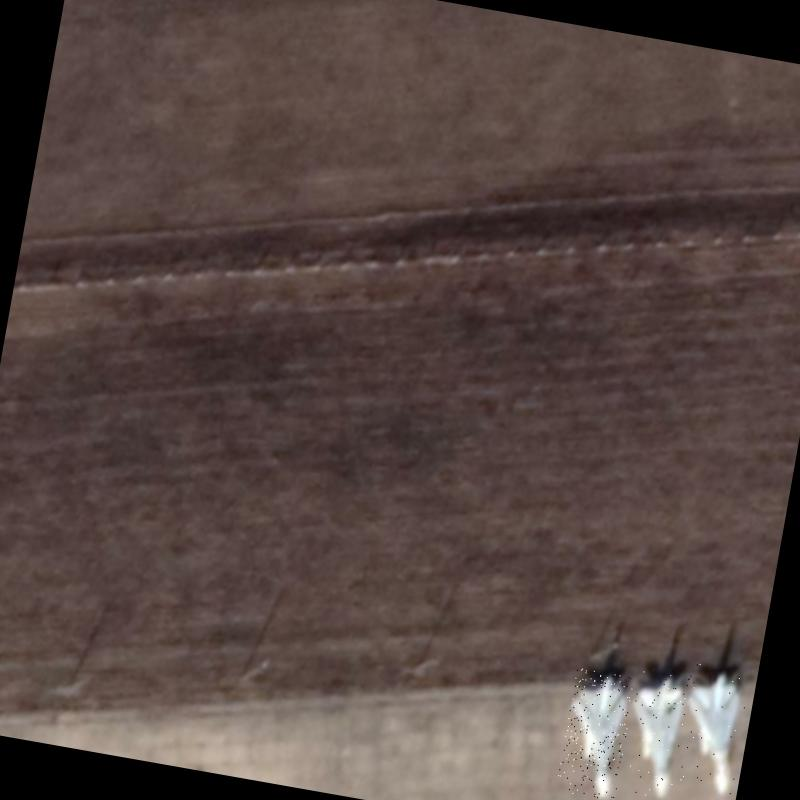A20: (555, 667, 636, 800), (674, 664, 754, 798), (619, 667, 693, 800)
